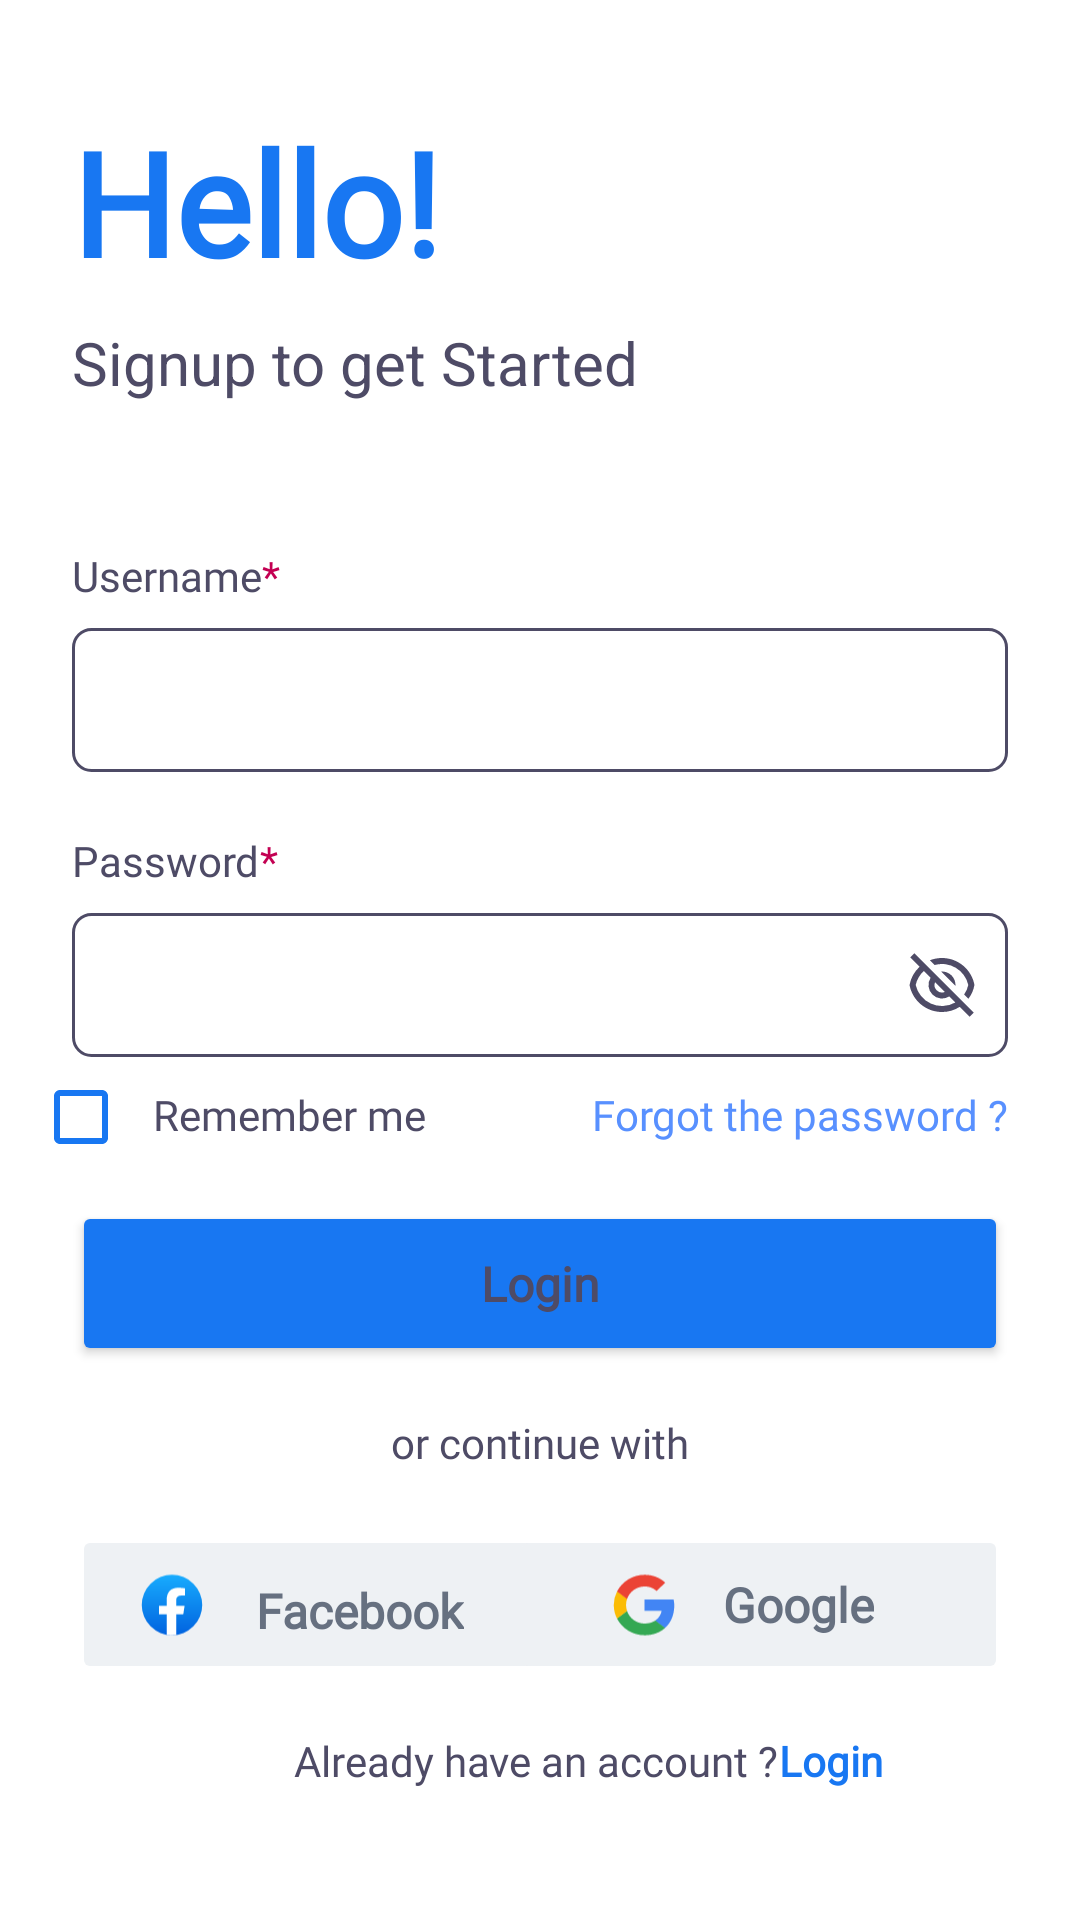

Screen size 1080w x 1920h. Icon name, then its box in pixels as (x1, y1, x2, y2):
hide: (909, 953, 975, 1017)
